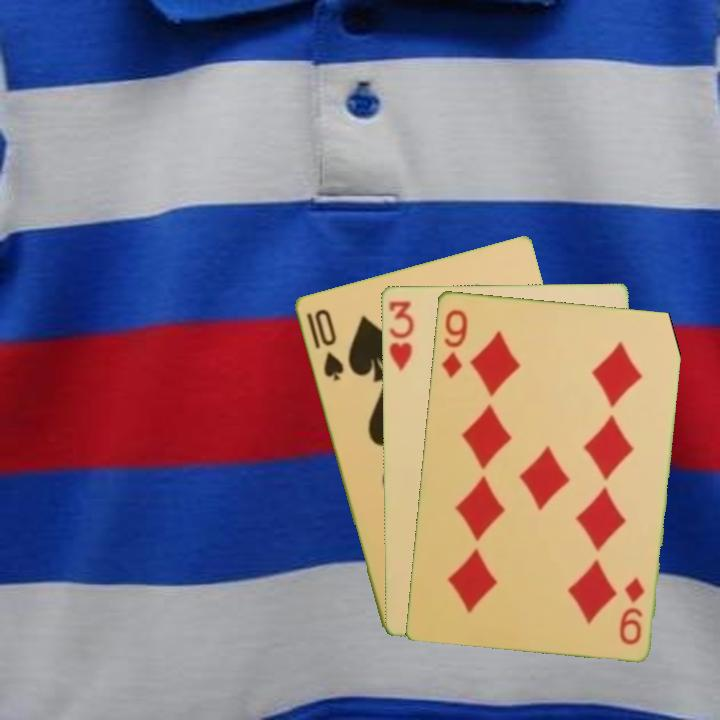10s: (310, 305, 347, 384)
3h: (385, 297, 416, 373)
9d: (438, 305, 470, 381), (615, 573, 647, 647)
